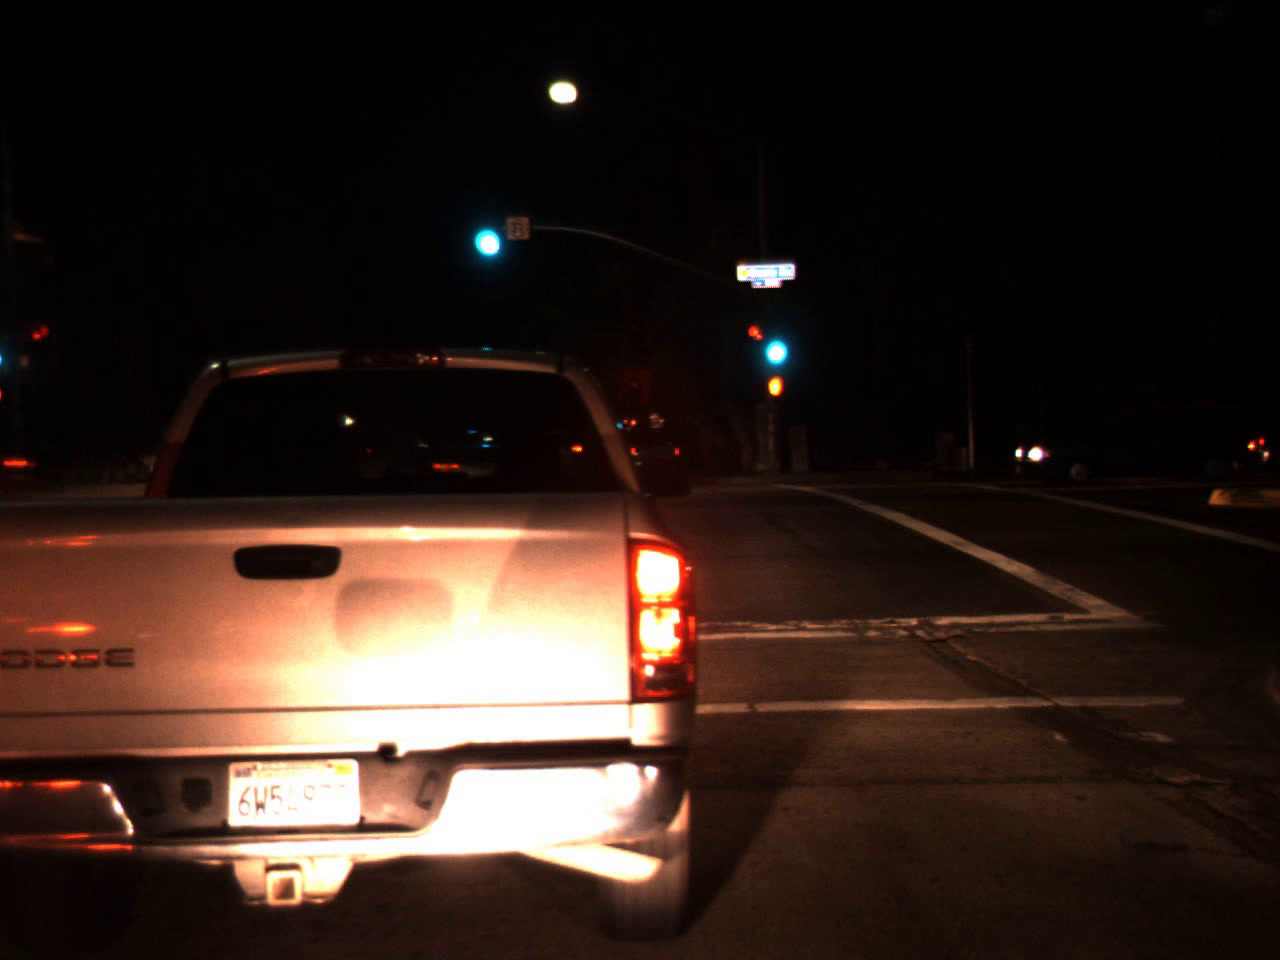go: (464, 192, 507, 267), (756, 309, 792, 375)
